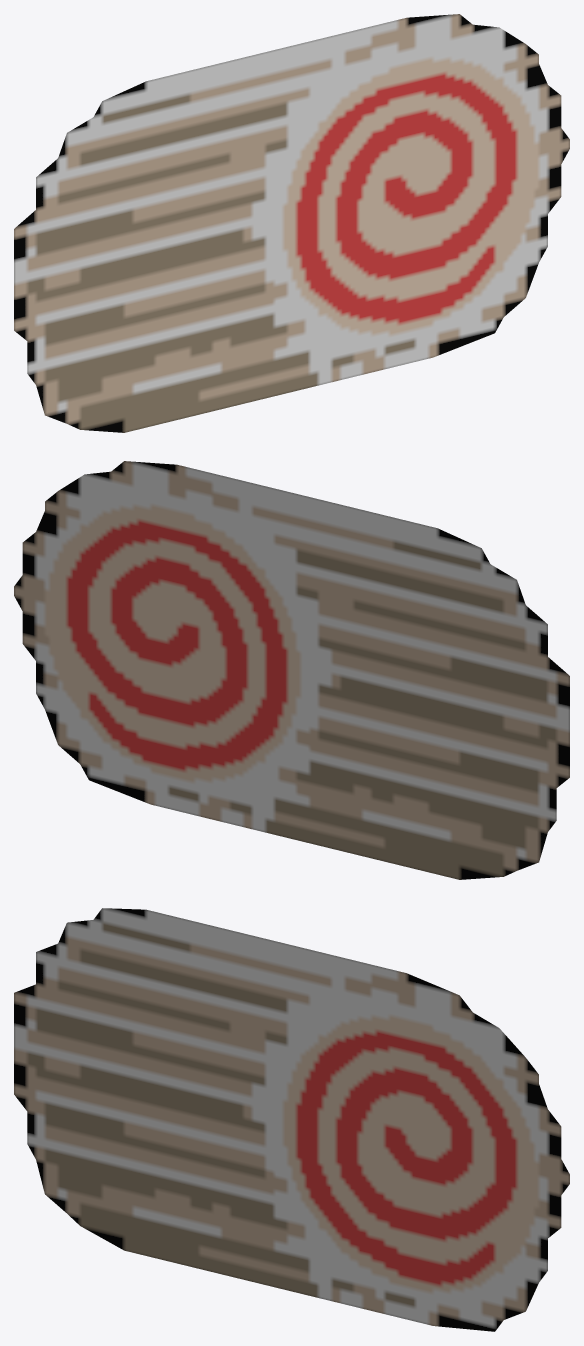
The model's file is nrticon.bin.obj.
The picture shows the model from 3 angles, top to bottom: view 1: azimuth 30°, elevation 25°; view 2: azimuth 150°, elevation 25°; view 3: azimuth 330°, elevation 25°; orthographic projection.
Bounding box in the file's own units: 4.92 × 2.93 × 0.
Materials: 1 (1 with a texture image).
